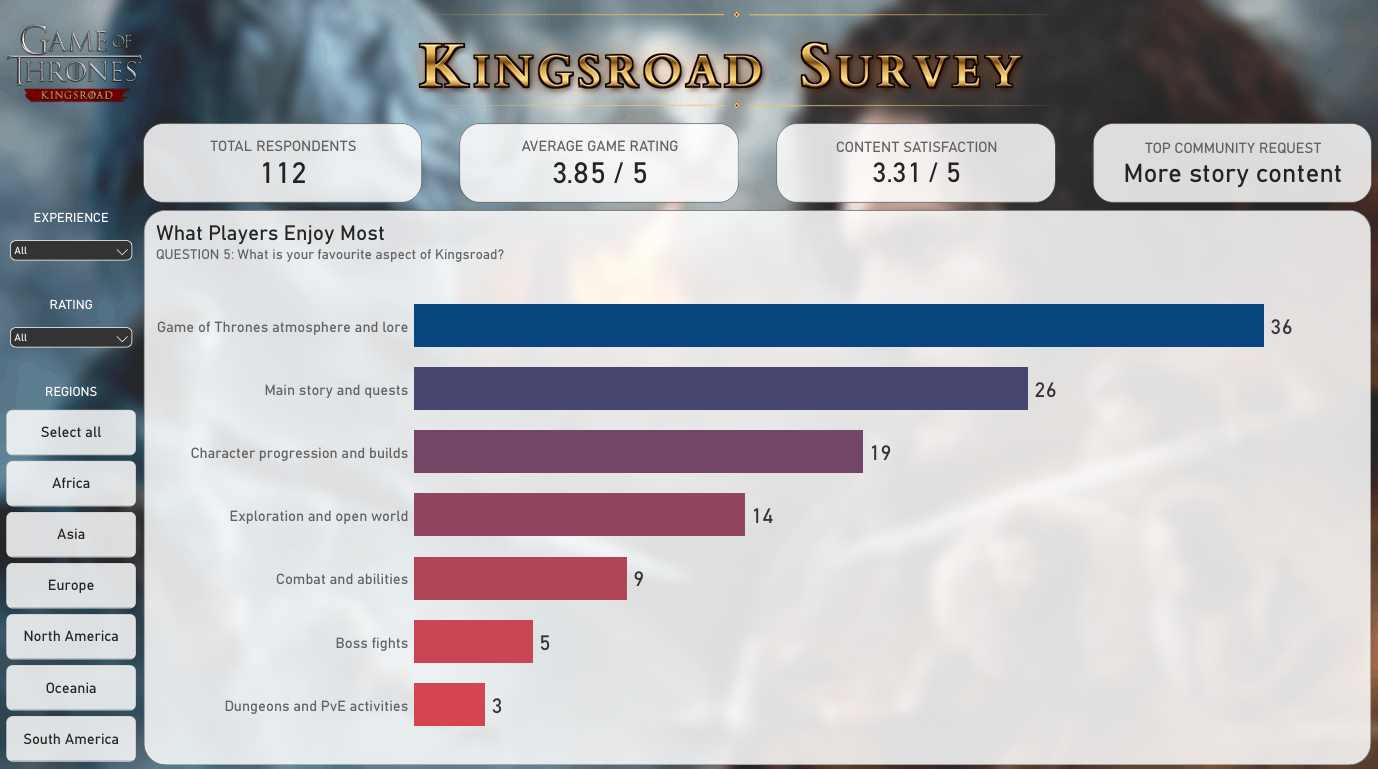

This screenshot's page, from the dashboard's own definition file:
{"tool":"powerbi","page":{"name":"Question 5","canvas":[1920,1080],"ordinal":2},"visuals":[{"type":"image","box":[10.2,10.2,189.7,164.9],"z":0},{"type":"image","box":[551.5,0,930,175],"z":1000},{"type":"clusteredBarChart","title":"What Players Enjoy Most","fields":{"Category":["Questions.What is your favourite aspect of Kingsroad?"],"Y":["Formulas.Players_Count"]},"box":[200.7,295.9,1707.4,772.1],"z":2000},{"type":"cardVisual","fields":{"Data":["Formulas.Players_Count"]},"box":[200,175,388.3,111],"z":3000},{"type":"cardVisual","fields":{"Data":["Formulas.Avg_Game_Rating_Card"]},"box":[640.3,175,388.3,111],"z":4000},{"type":"cardVisual","fields":{"Data":["Formulas.Top_Improvement"]},"box":[1521,175.1,388.3,111],"z":5000},{"type":"cardVisual","fields":{"Data":["Formulas.Avg_Content_Rating_Card"]},"box":[1080.7,175,388.3,111],"z":6000},{"type":"advancedSlicerVisual","title":"REGIONS","fields":{"Values":["Questions.Where are you playing from?"]},"box":[10.2,537.4,180,530],"z":7000},{"type":"slicer","title":"RATING","fields":{"Values":["Questions.Overall, how would you rate Game of Thrones: Kingsroad?"]},"box":[10,416.5,180.3,85],"z":8000},{"type":"slicer","title":"EXPERIENCE","fields":{"Values":["Questions.How long have you been playing Game of Thrones: Kingsroad?"]},"box":[10,295.7,180.3,85],"z":9000}]}

Visuals, with their boxes in screenshot pixels (x1, y1, x2, y2), scaled from the page's 1920x1080 canvas onto the 1378x769 screenshot:
image: box=[7, 7, 143, 125]
image: box=[396, 0, 1063, 125]
"What Players Enjoy Most" clusteredBarChart: box=[144, 211, 1369, 760]
cardVisual - Formulas.Players_Count: box=[144, 125, 422, 204]
cardVisual - Formulas.Avg_Game_Rating_Card: box=[460, 125, 738, 204]
cardVisual - Formulas.Top_Improvement: box=[1092, 125, 1370, 204]
cardVisual - Formulas.Avg_Content_Rating_Card: box=[776, 125, 1054, 204]
"REGIONS" advancedSlicerVisual: box=[7, 383, 137, 760]
"RATING" slicer: box=[7, 297, 137, 357]
"EXPERIENCE" slicer: box=[7, 211, 137, 271]
